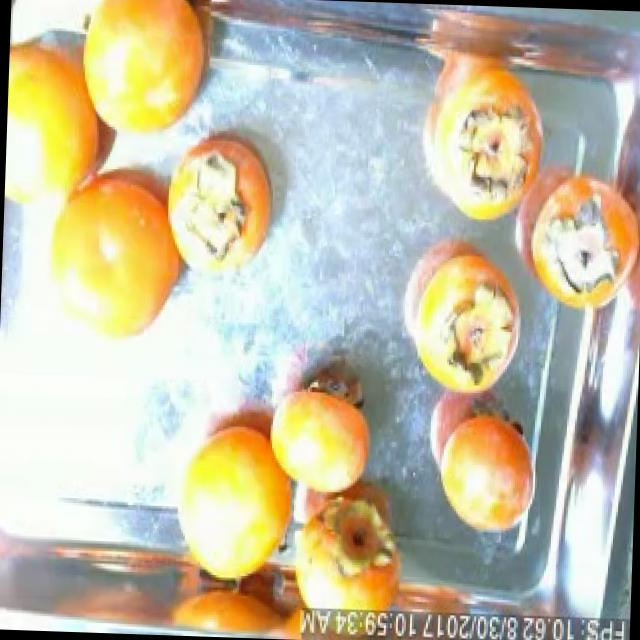Fruit: (148, 389, 314, 600), (384, 218, 536, 410), (63, 0, 227, 160), (422, 388, 540, 548)
